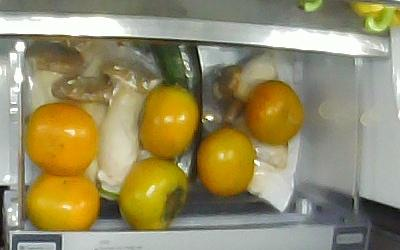persimmon: (25, 104, 98, 175), (117, 157, 187, 228), (138, 84, 199, 160), (26, 172, 99, 229), (195, 129, 255, 196), (245, 81, 304, 144)
